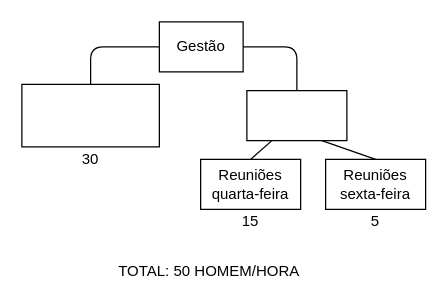
The diagram is 448 pixels wide and 306 high, and some of its shapes have lost their labels. Each missing label, with the centre of its shape:
Estudo da linguagem de programação Unity: pixel 90 115
Reuniões pós aulas: pixel 296 115
